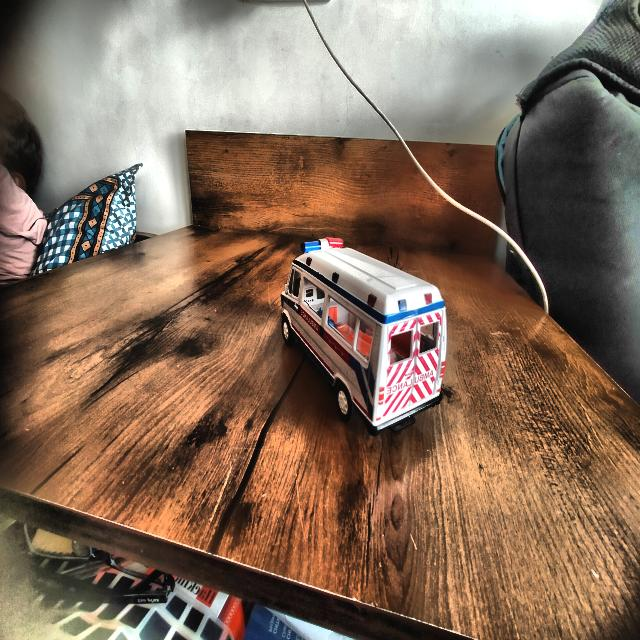Ambulance: (281, 239, 447, 429)
